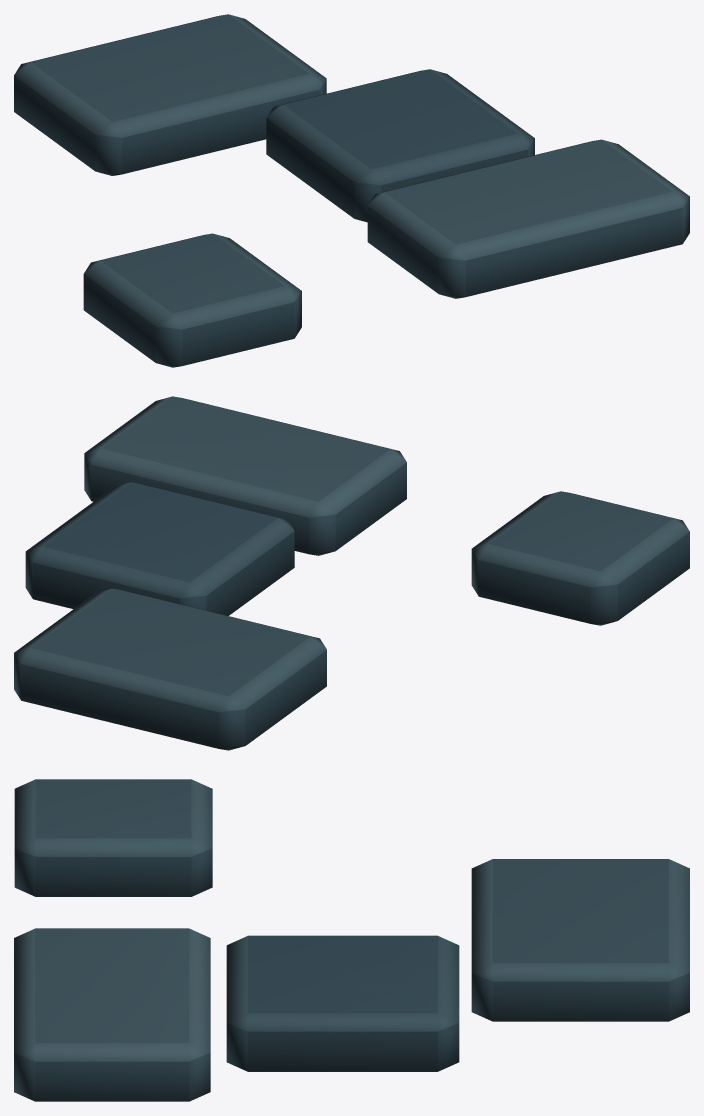
The model's file is stone_path_7.fbx.
The picture shows the model from 3 angles, top to bottom: view 1: azimuth 30°, elevation 25°; view 2: azimuth 150°, elevation 25°; view 3: azimuth 270°, elevation 25°; orthographic projection. The views are drawn at different scales.
Parts seen in each view (by area): view 1: stone_path_7; view 2: stone_path_7; view 3: stone_path_7.
Boxes of the visible parts, bbox=[...] form: stone_path_7: bbox=[14, 14, 689, 367]; stone_path_7: bbox=[14, 396, 689, 750]; stone_path_7: bbox=[14, 779, 689, 1101].
Size of the model in its own units: 188 by 18.28 by 191.
